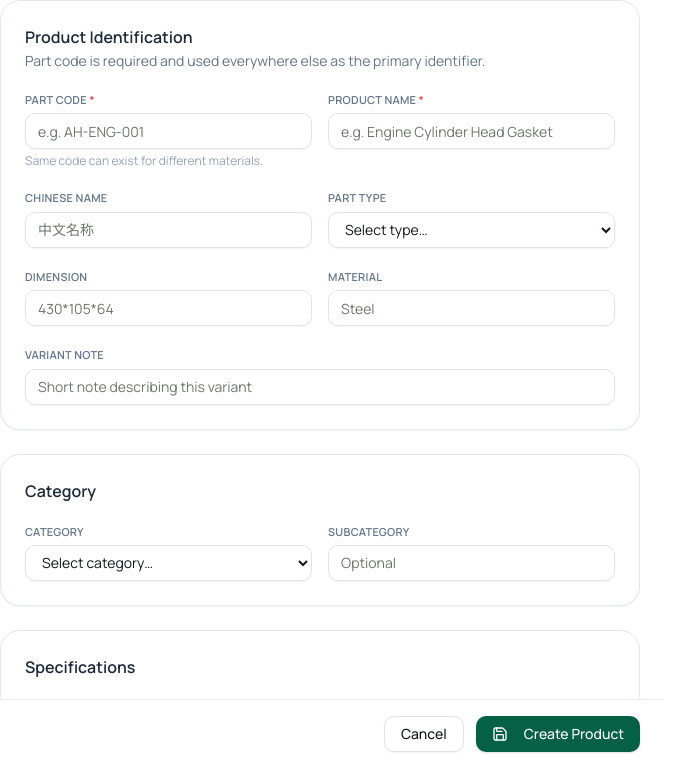
Test case: ProductForm — submit › routes field error to the specific field
Type "X4" into the field labelled "Part Code *" at {"x": 168, "y": 131}, box 25,113 -> 312,149
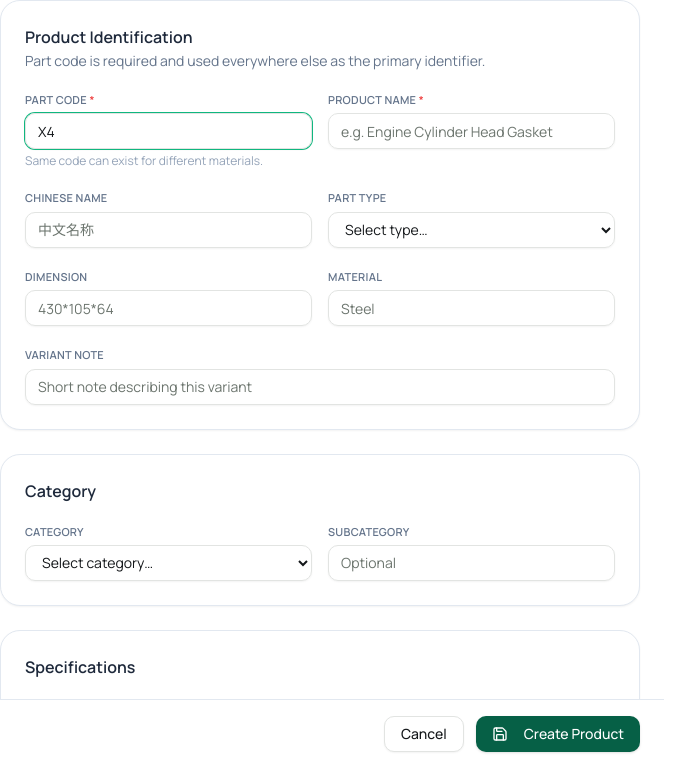
Type "Existing" into the field labelled "Product Name *" at {"x": 472, "y": 131}, box 328,113 -> 615,149
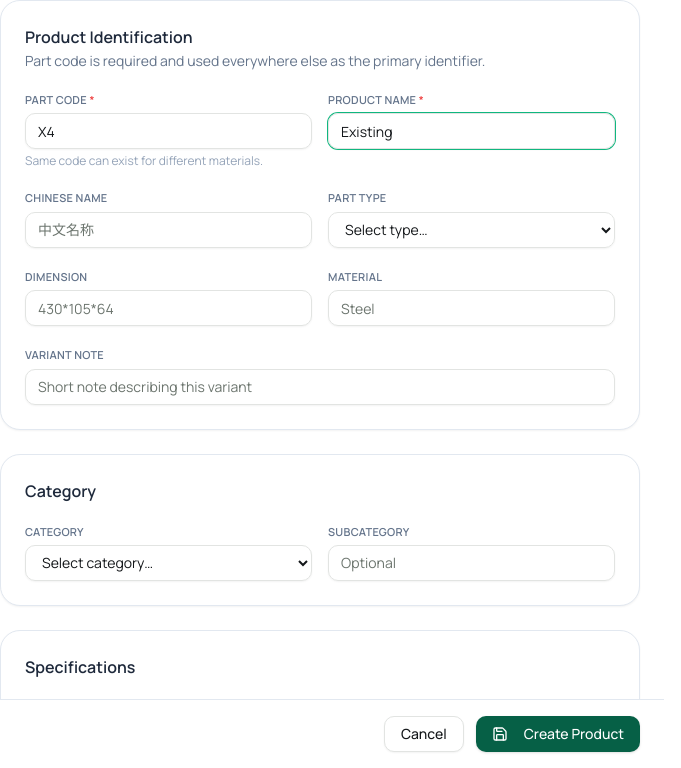
Click the button "Create Product" at {"x": 558, "y": 734}, box 476,716 -> 640,752
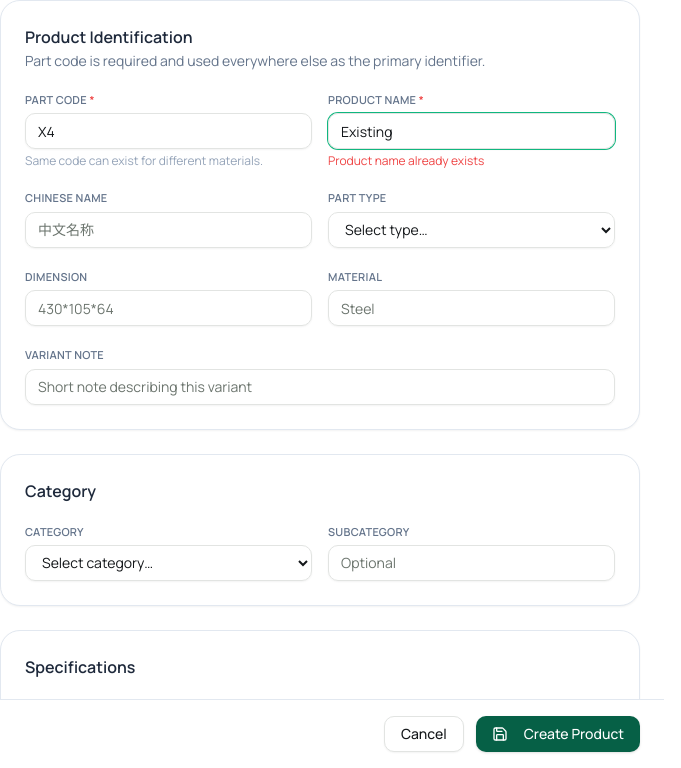
Now the text "Product name already exists" is shown, box 328,152 -> 484,169
